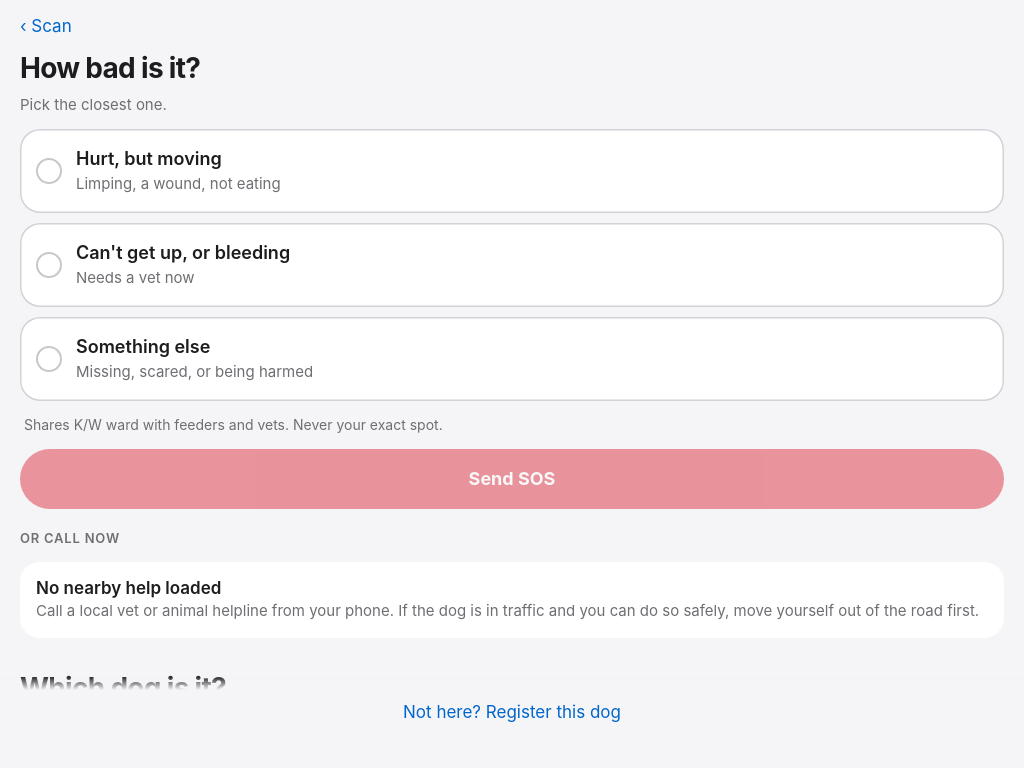
Test: ?sos=1: the dogless SOS (v6 P8) › maps Hurt, but moving and Something else to serious
The image size is (1024, 768).
Click the radio button labelled "Something else Missing, scared, or being harmed" at [143, 347], box [20,317,1004,401]
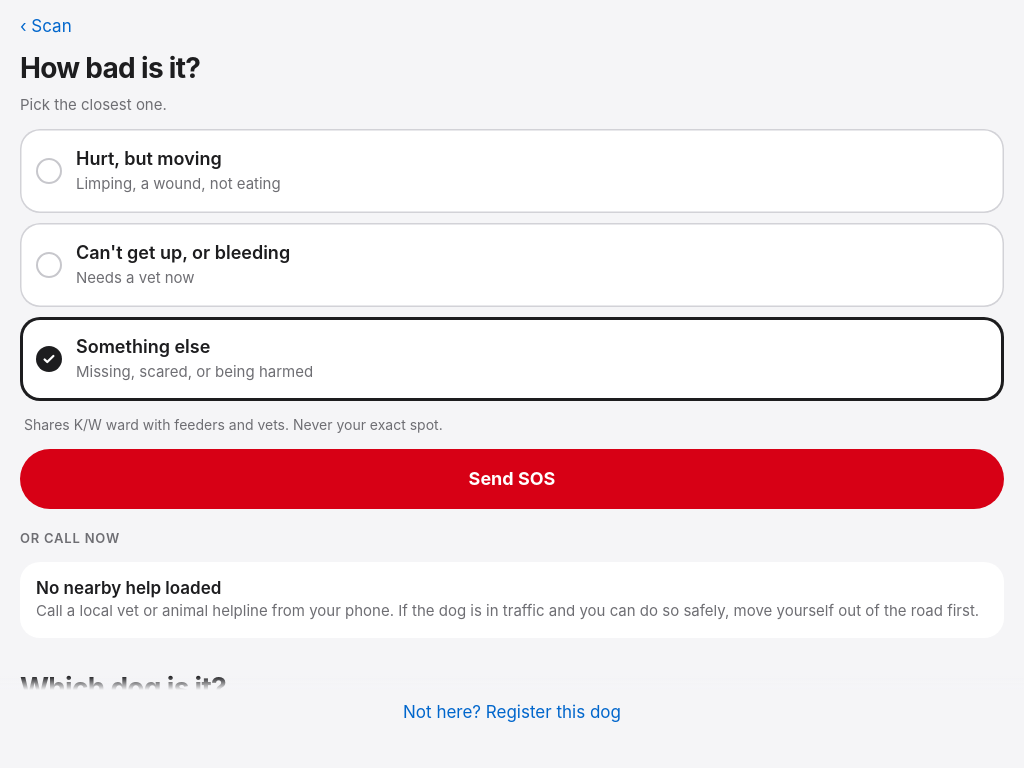
Click the button "Send SOS" at [512, 479], box [20,449,1004,509]
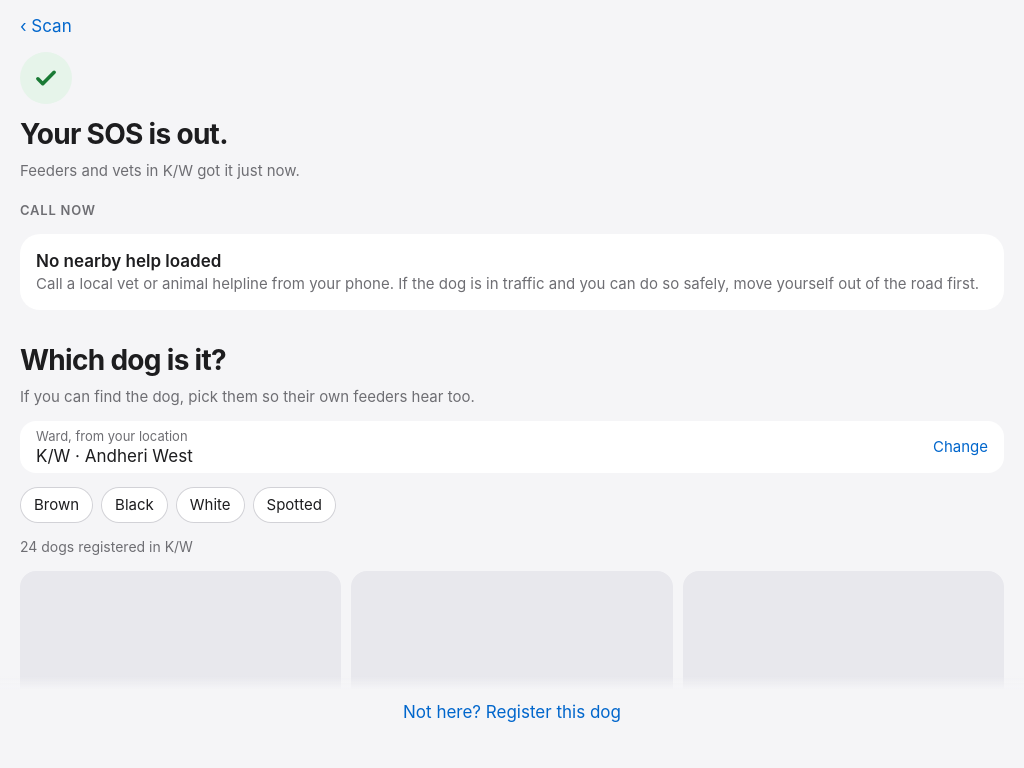
Check: the text "Feeders and vets in K/W got it just now." is shown, box [20,161,300,180]
